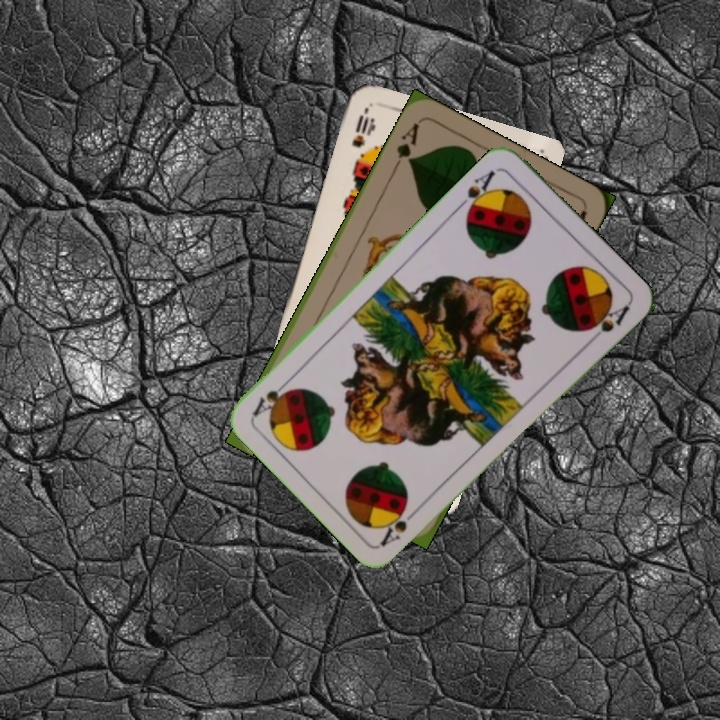GA: (388, 119, 423, 174)
S10: (347, 105, 375, 150)
SA: (453, 166, 499, 219), (376, 501, 424, 549)
